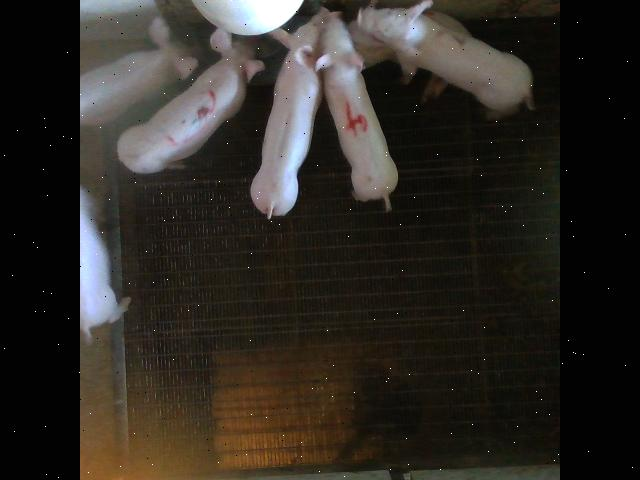pig-2: (358, 0, 534, 115)
pig-3: (118, 28, 265, 172)
pig-4: (316, 14, 398, 206)
